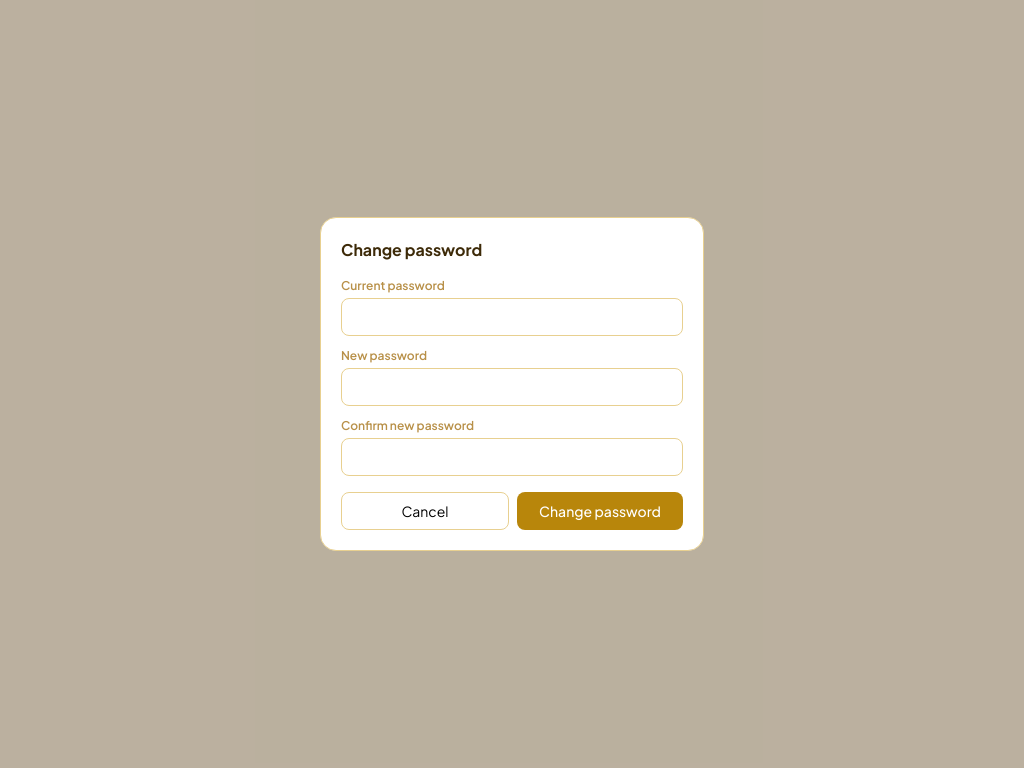
Test case: reports a rejected current password from the server
Type "wrong-one-here" into the password field labelled "Current password" at (512, 317), box [341,298,683,336]
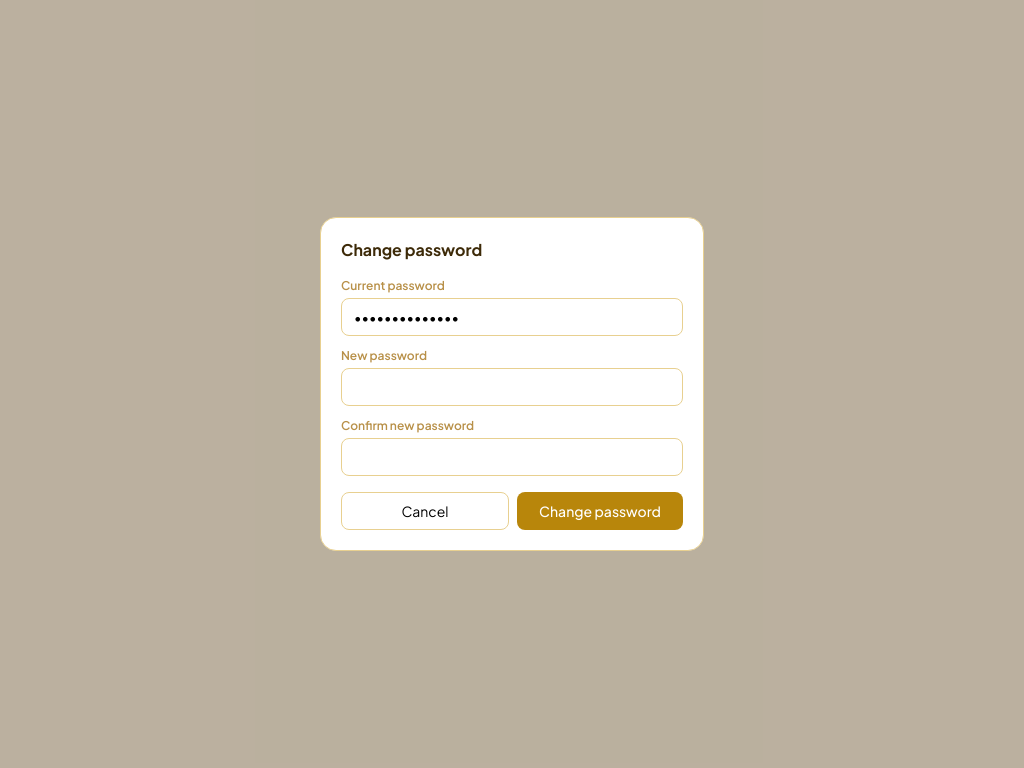
Type "brand-new-pass" into the password field labelled "New password" at (512, 387), box [341,368,683,406]
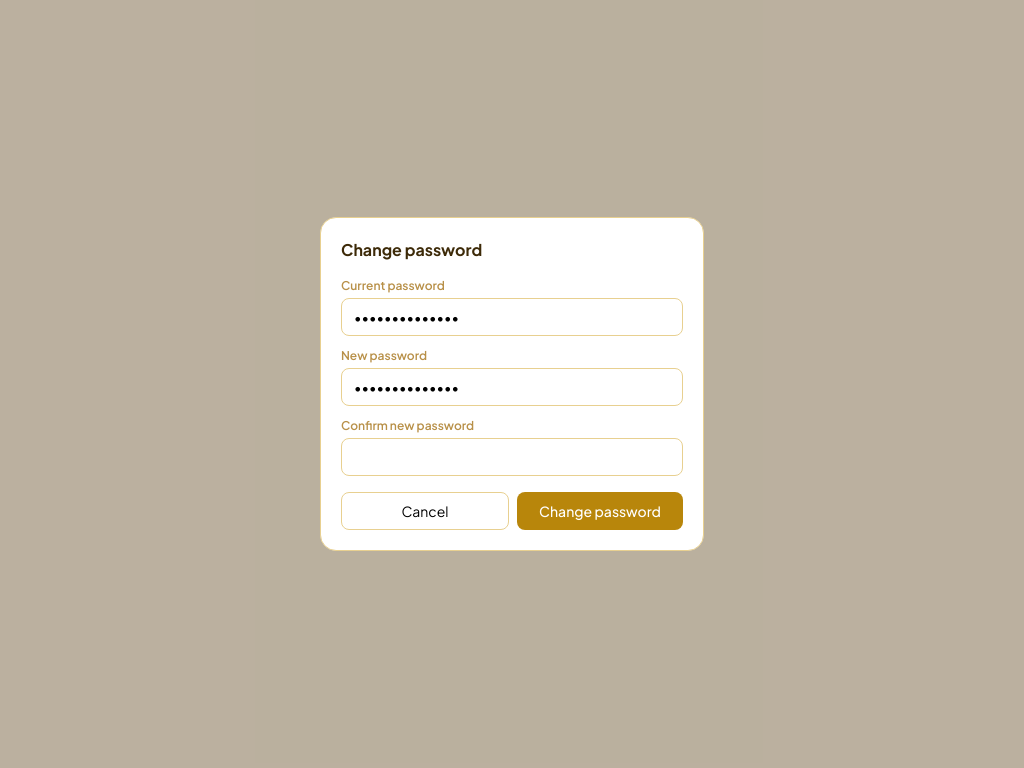
Type "brand-new-pass" into the password field labelled "Confirm new password" at (512, 457), box [341,438,683,476]
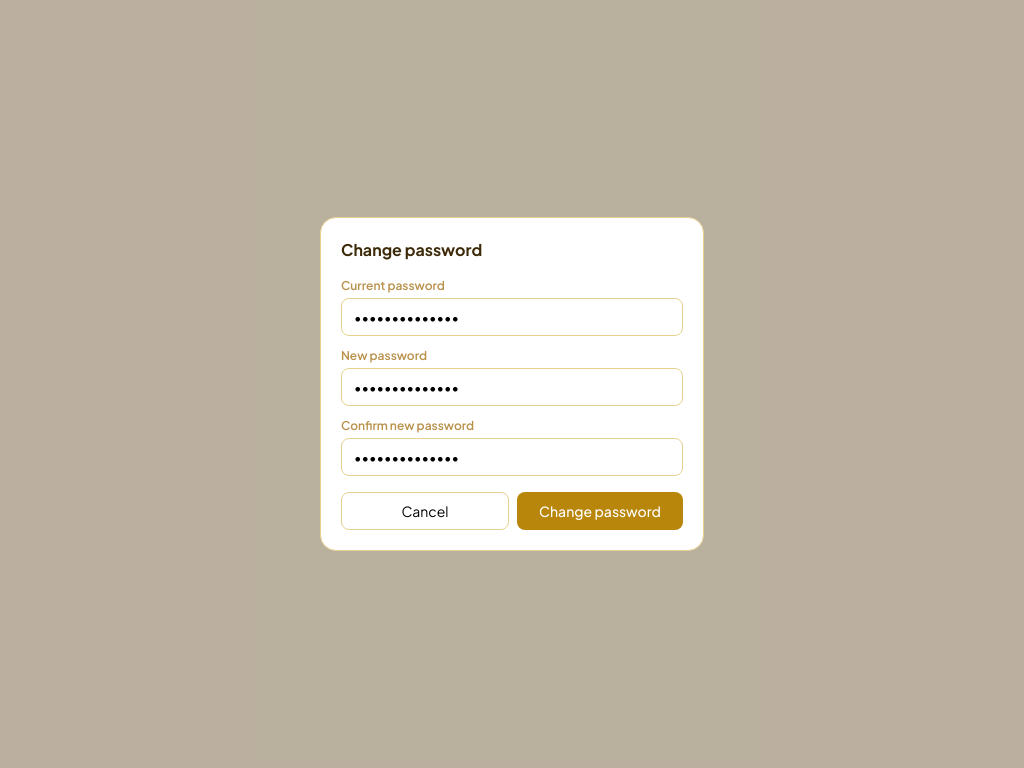
Click the button "Change password" at (600, 511), box [517,492,683,530]
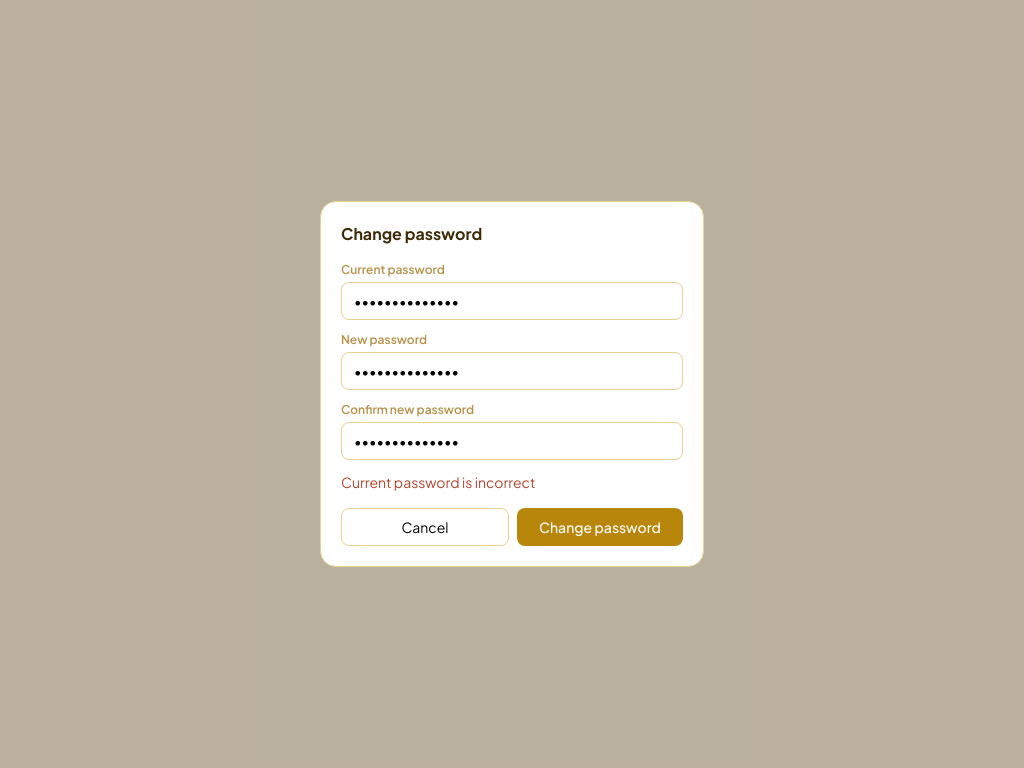
Now the text "Current password is incorrect" is shown, box [341,473,535,491]
